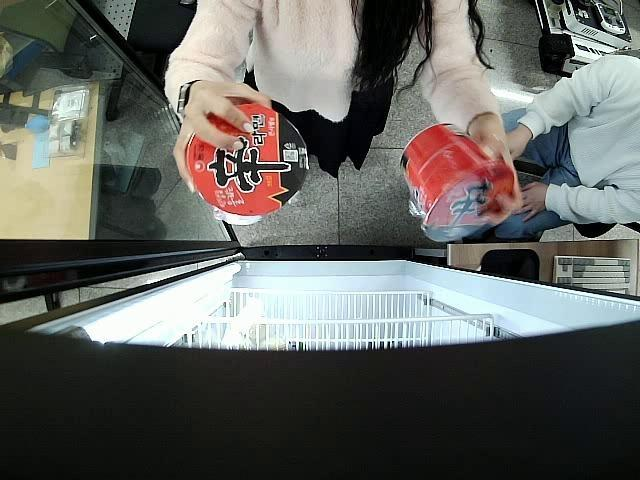01_ShinRamen_L: (185, 101, 309, 227), (397, 120, 512, 244)
